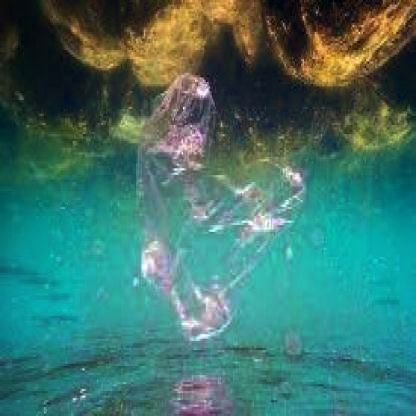pbag: (128, 68, 312, 357)
